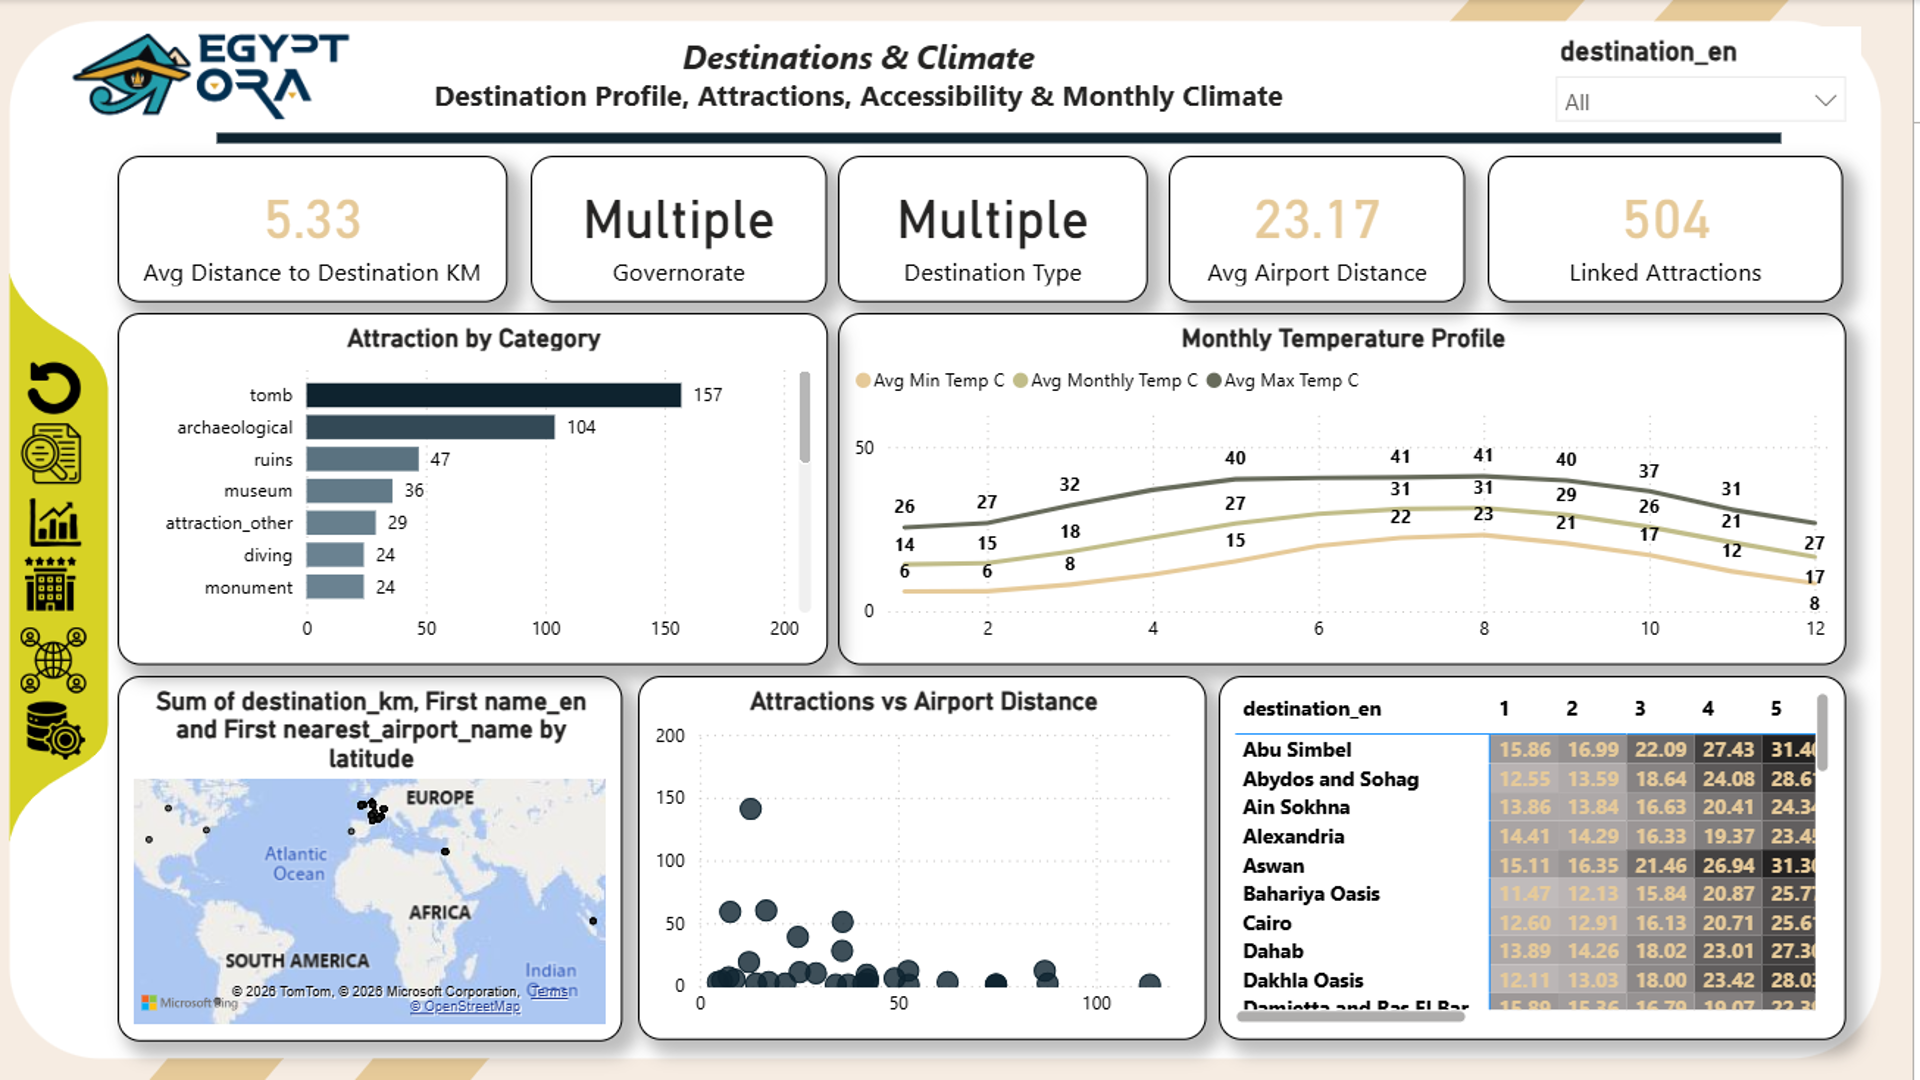

The page's visual inventory and layout, read from the dashboard file:
{"tool":"powerbi","page":{"name":"Destinations & Climate","canvas":[1280,720],"ordinal":3},"visuals":[{"type":"textbox","box":[180.9,17.5,803.4,65.2],"z":0},{"type":"slicer","fields":{"Values":["Destinations.destination_en"]},"box":[1033.9,17.5,212,64.2],"z":1000},{"type":"card","fields":{"Values":["_Key Measures (1).Governorate"]},"box":[365.7,103.1,196.5,97.3],"z":2000},{"type":"card","fields":{"Values":["_Key Measures (1).Destination Type"]},"box":[569,103.1,300.5,97.3],"z":3000},{"type":"card","fields":{"Values":["_Key Measures (1).Avg Distance to Destination KM"]},"box":[92.4,103.1,257.8,97.3],"z":4000},{"type":"map","fields":{"Category":["Attraction Linked.latitude","Attraction Linked.longitude"]},"box":[92,447,334,242],"z":5000},{"type":"lineChart","title":"Monthly Temperature Profile","fields":{"Category":["NASA Climate.month"],"Y":["_Key Measures (1).Avg Min Temp C","_Key Measures (1).Avg Monthly Temp C","_Key Measures (1).Avg Max Temp C"]},"box":[569,207.2,667.2,233.4],"z":6000},{"type":"card","fields":{"Values":["_Key Measures (1).Avg Airport Distance"]},"box":[881.2,103.1,190.6,96.3],"z":7000},{"type":"card","fields":{"Values":["_Key Measures (1).Linked Attractions"]},"box":[1079.6,103.1,154.7,96.3],"z":8000},{"type":"clusteredBarChart","title":"Attraction by Category ","fields":{"Category":["Attraction Linked.category"],"Y":["Count(Attraction Linked.attraction_id)"]},"box":[92.4,207.2,469.8,233.4],"z":9000},{"type":"scatterChart","title":"Attractions vs Airport Distance","fields":{"Category":["Destinations.destination_en"],"X":["_Key Measures (1).Avg Airport Distance"],"Y":["_Key Measures (1).Linked Attractions"]},"box":[436.7,447.4,376.4,241.2],"z":10000},{"type":"pivotTable","title":"Average Monthly Temperature Heatmap","fields":{"Columns":["NASA Climate.month"],"Rows":["NASA Climate.destination_en"],"Values":["_Key Measures (1).Avg Monthly Temp C"]},"box":[825.8,448.4,415.3,241.2],"z":11000},{"type":"image","box":[23.7,275.3,50.1,50.1],"z":12000},{"type":"image","box":[23.7,323.5,55.8,43.5],"z":13000},{"type":"image","box":[20.8,360.4,55.8,51.1],"z":14000},{"type":"image","box":[22.7,409.6,55.8,54.9],"z":15000},{"type":"image","box":[24.6,457.9,55.8,51.1],"z":16000},{"type":"image","box":[14.2,0,273.1,96.7],"z":17000},{"type":"image","box":[16.8,223.4,67.4,51.4],"z":18000}]}

Visuals, with their boxes in screenshot pixels (x1, y1, x2, y2), scaled from the page's 1280x720 canvas onto the 1920x1080 screenshot:
textbox: [x1=271, y1=26, x2=1476, y2=124]
slicer - Destinations.destination_en: [x1=1551, y1=26, x2=1869, y2=123]
card - _Key Measures (1).Governorate: [x1=549, y1=155, x2=843, y2=301]
card - _Key Measures (1).Destination Type: [x1=854, y1=155, x2=1304, y2=301]
card - _Key Measures (1).Avg Distance to Destination KM: [x1=139, y1=155, x2=525, y2=301]
map - Attraction Linked.latitude x Attraction Linked.longitude: [x1=138, y1=670, x2=639, y2=1034]
"Monthly Temperature Profile" lineChart: [x1=854, y1=311, x2=1854, y2=661]
card - _Key Measures (1).Avg Airport Distance: [x1=1322, y1=155, x2=1608, y2=299]
card - _Key Measures (1).Linked Attractions: [x1=1619, y1=155, x2=1851, y2=299]
"Attraction by Category " clusteredBarChart: [x1=139, y1=311, x2=843, y2=661]
"Attractions vs Airport Distance" scatterChart: [x1=655, y1=671, x2=1220, y2=1033]
"Average Monthly Temperature Heatmap" pivotTable: [x1=1239, y1=673, x2=1862, y2=1034]
image: [x1=36, y1=413, x2=111, y2=488]
image: [x1=36, y1=485, x2=119, y2=550]
image: [x1=31, y1=541, x2=115, y2=617]
image: [x1=34, y1=614, x2=118, y2=697]
image: [x1=37, y1=687, x2=121, y2=764]
image: [x1=21, y1=0, x2=431, y2=145]
image: [x1=25, y1=335, x2=126, y2=412]
